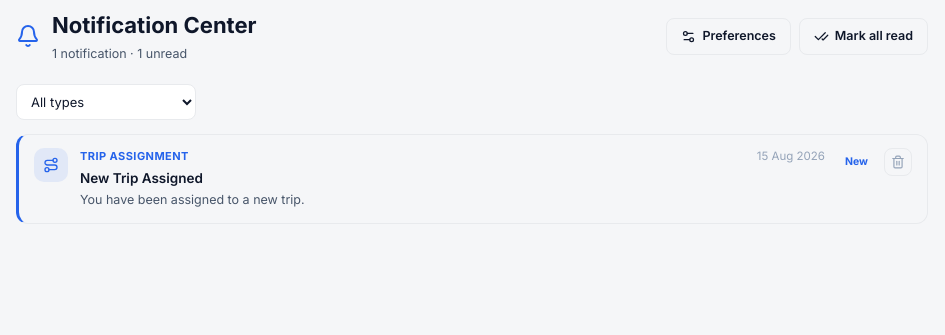
Scenario: NotificationsPage › marks all read and dismisses an item
The width and height of the screenshot is (945, 335).
Expected: the text "New Trip Assigned" is shown, left=80, top=170, right=203, bottom=186
Click the button titled "Mark all notifications as read" at (863, 36), box left=799, top=18, right=928, bottom=55
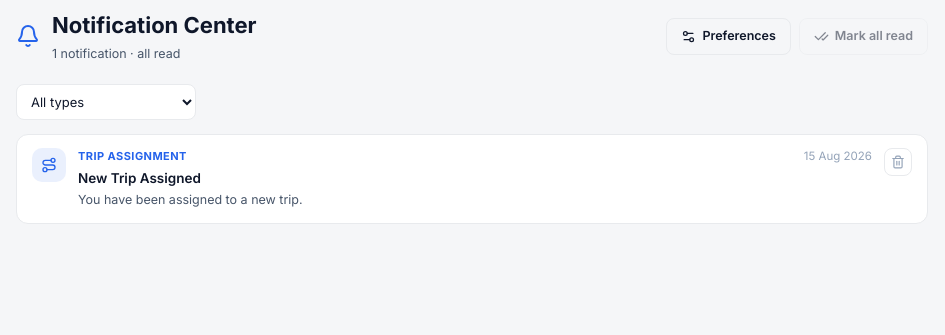
Expected: the text "1 notification · all read" is shown, left=52, top=46, right=180, bottom=61
Click the button titled "Dismiss notification" at (898, 162), box left=884, top=148, right=912, bottom=176
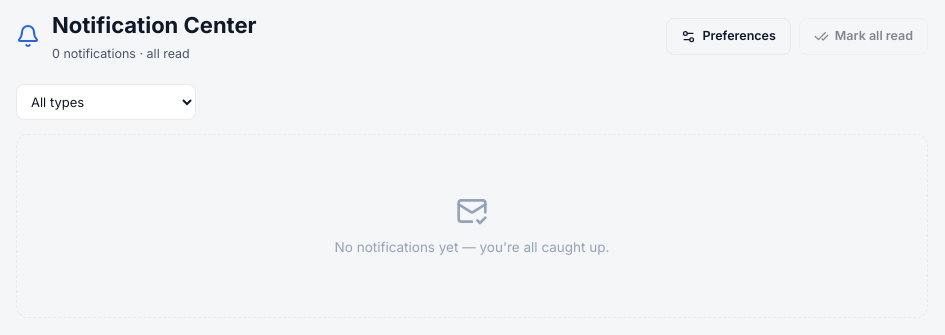
Expected: the text "New Trip Assigned" is gone
Expected: the text "No notifications yet — you're all caught up." is shown, left=335, top=237, right=609, bottom=257
